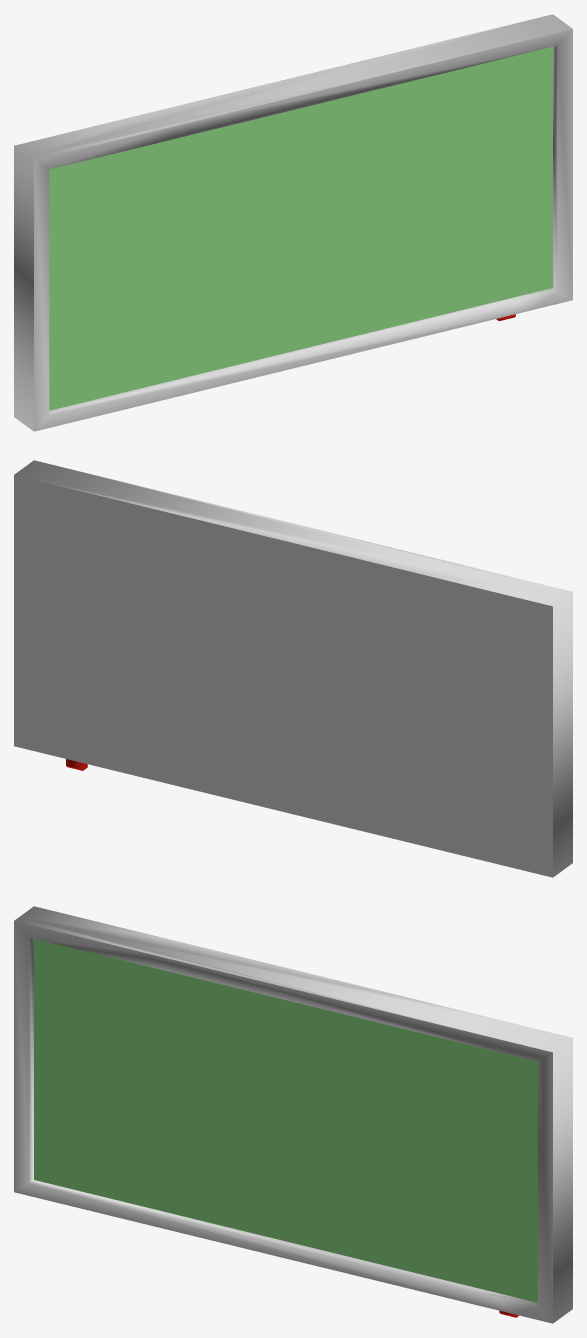
The model's file is DirectionSign.fbx.
3 renders of one model, top to bottom at view 1: azimuth 30°, elevation 25°; view 2: azimuth 150°, elevation 25°; view 3: azimuth 330°, elevation 25°, orthographic.
Visible parts, largest first — view 1: Exit; view 2: Exit; view 3: Exit.
Boxes of the visible parts, x1,y1,x2,y2 form: Exit: (14, 14, 572, 431); Exit: (14, 460, 572, 877); Exit: (14, 906, 572, 1323).
Bounding box in the file's own units: 1317 × 665 × 84.76.
